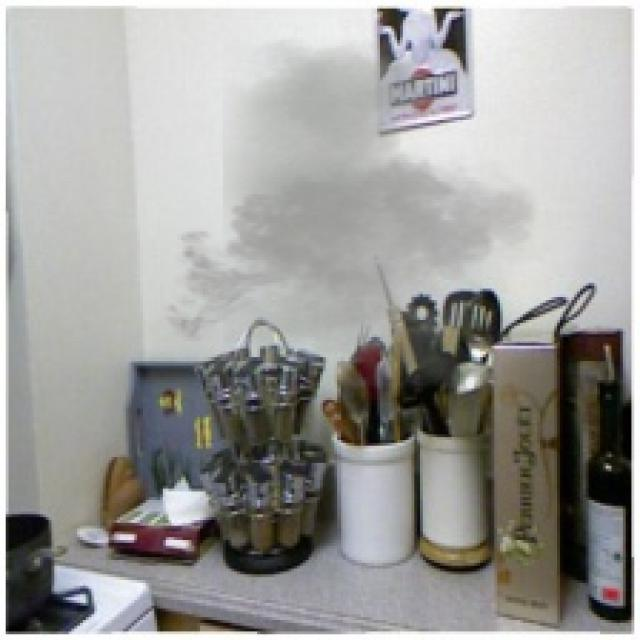smoke: (152, 37, 554, 389)
